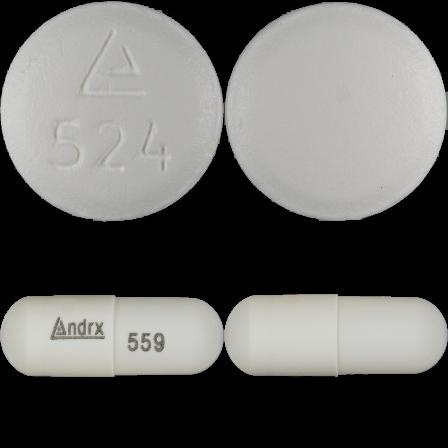62037-524: (0, 0, 224, 224)
